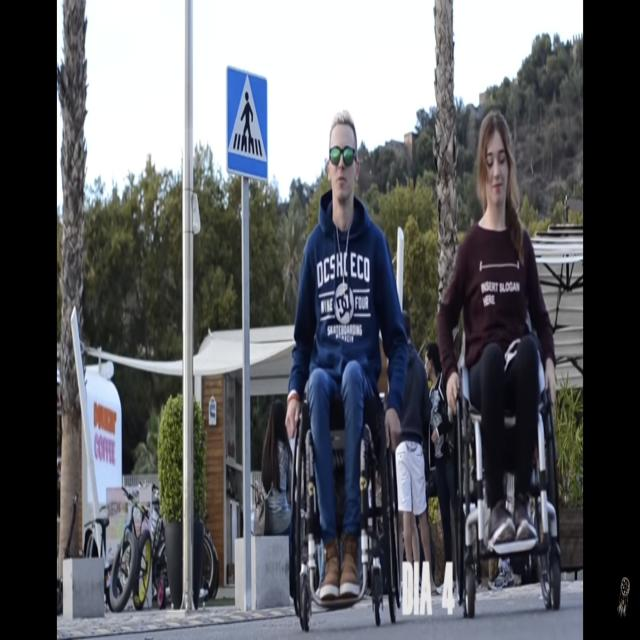wheelchairs: (442, 265, 560, 620), (290, 257, 402, 630)
